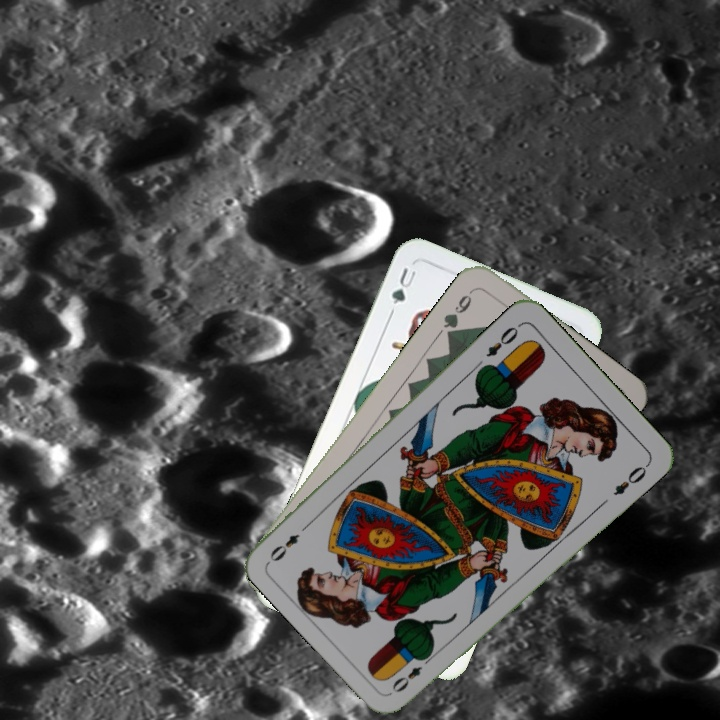EO: (387, 650, 436, 696), (482, 322, 521, 360)
G9: (439, 285, 477, 340)
GU: (387, 263, 419, 307)
